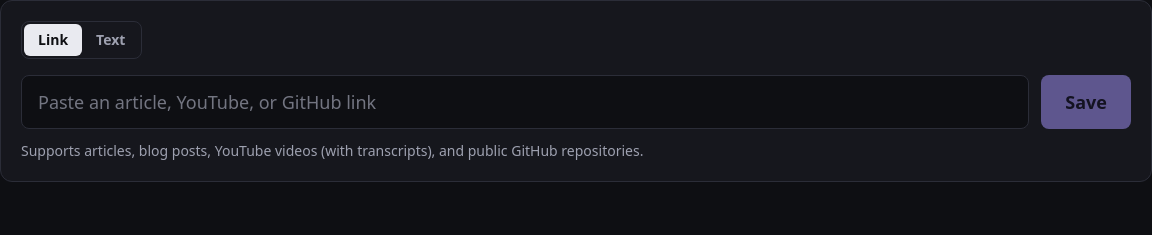
Test case: saving a link › says so when the link was already saved
Type "https://example.com/post" into the field named "Link to save" at (525, 102), box x1=21 y1=75 x2=1029 y2=129
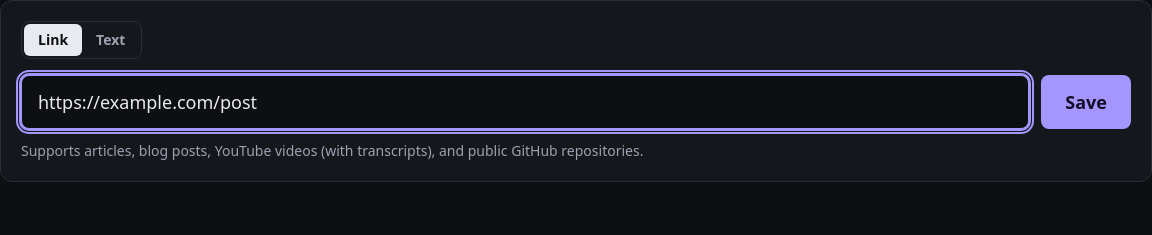
Click the button "Save" at (1086, 102), box x1=1041 y1=75 x2=1131 y2=129
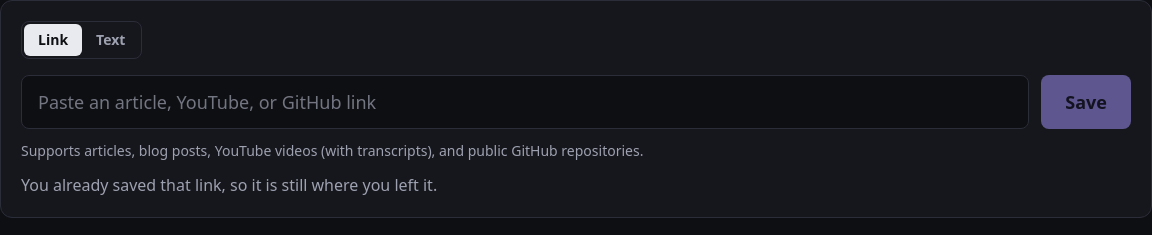
Check: the message shows "already saved", box x1=21 y1=174 x2=437 y2=196
